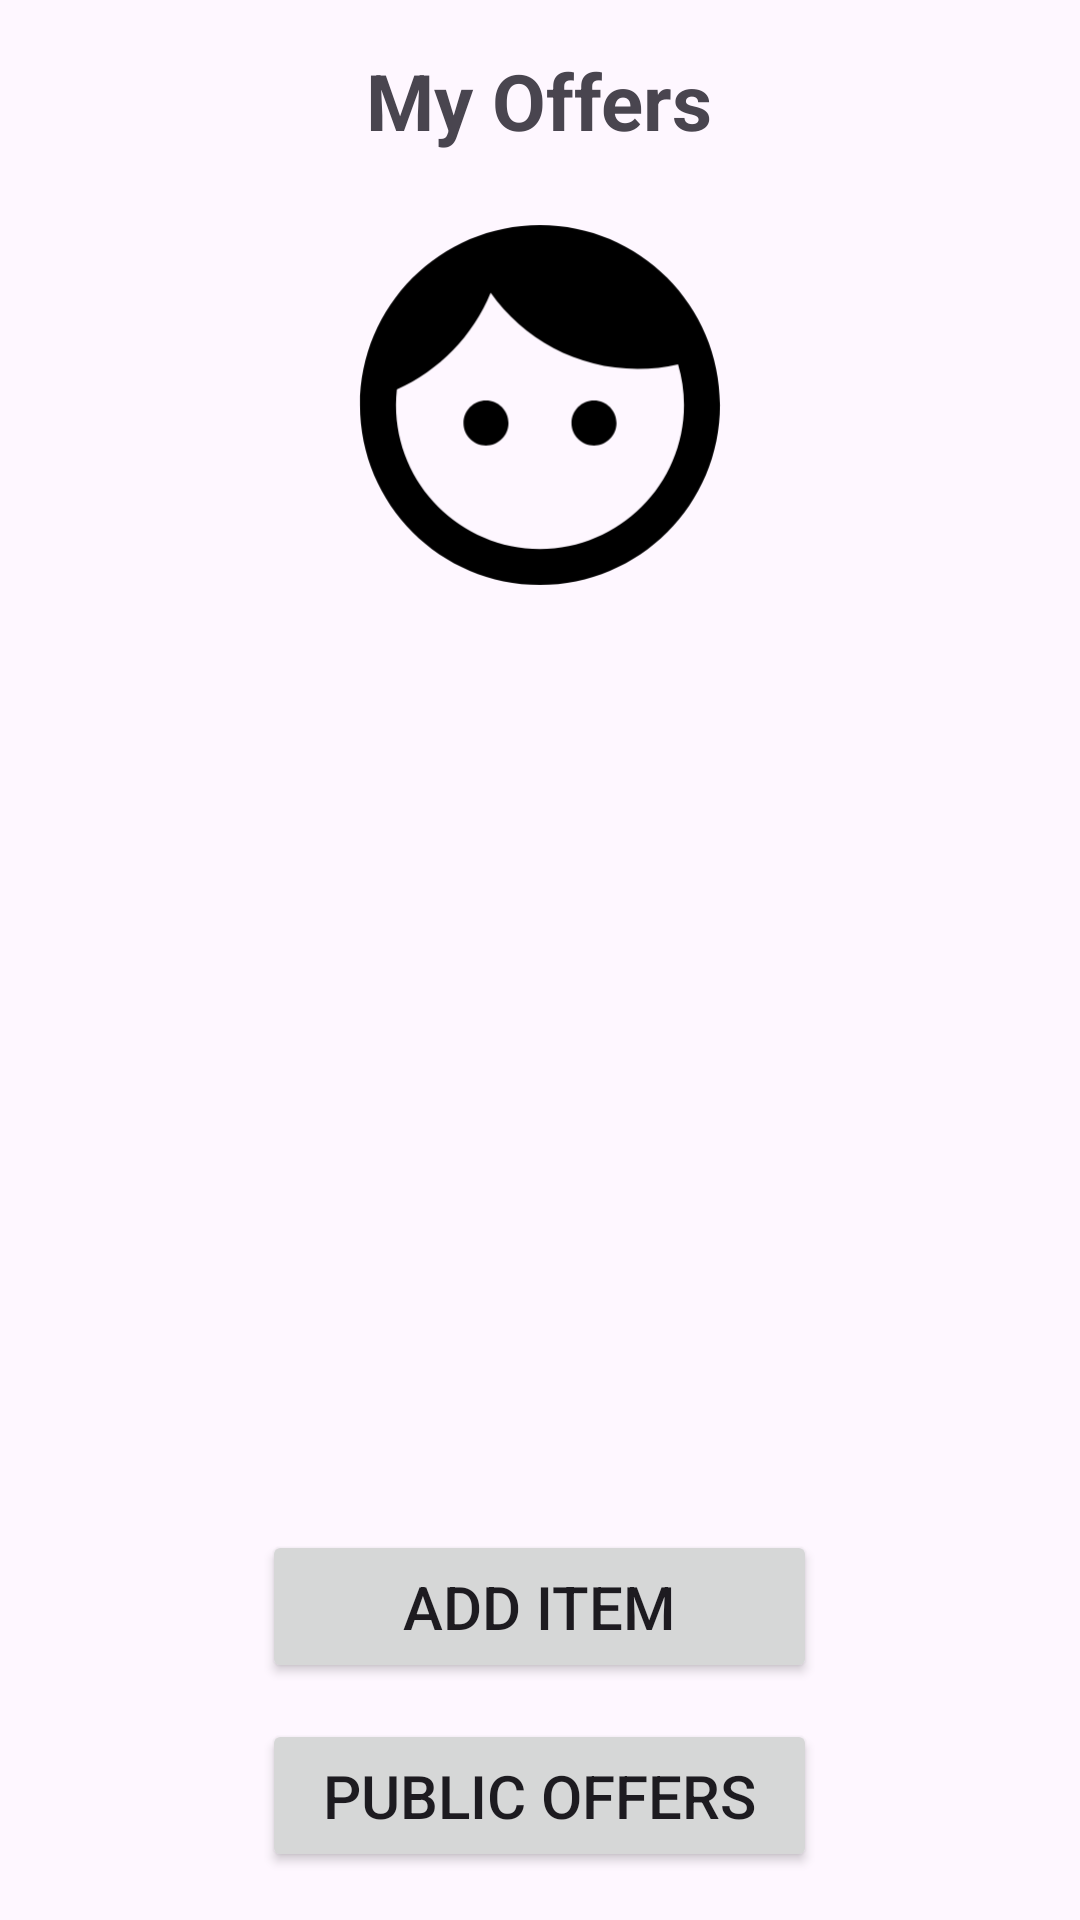

Point at icon controls on the screen. Image size 1080px×1920px, points as (x,y).
profile face: (540,405)
